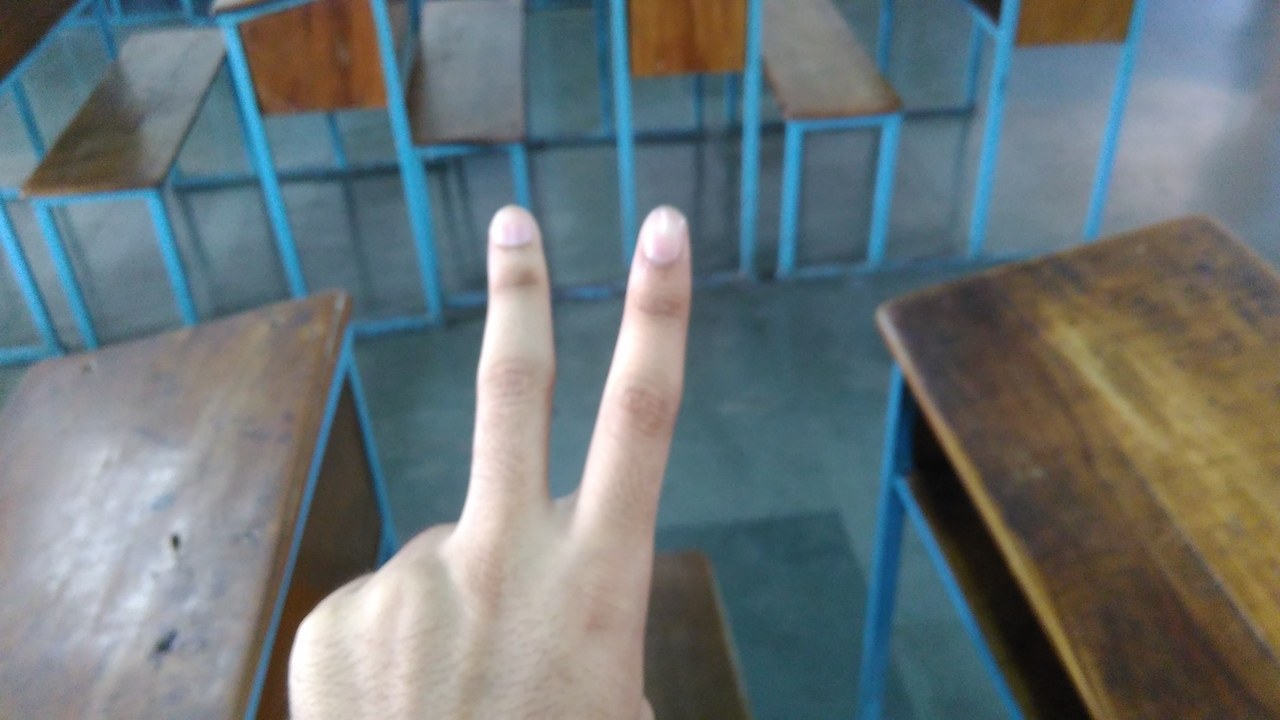fingertip: (626, 202, 700, 274), (480, 200, 548, 268)
